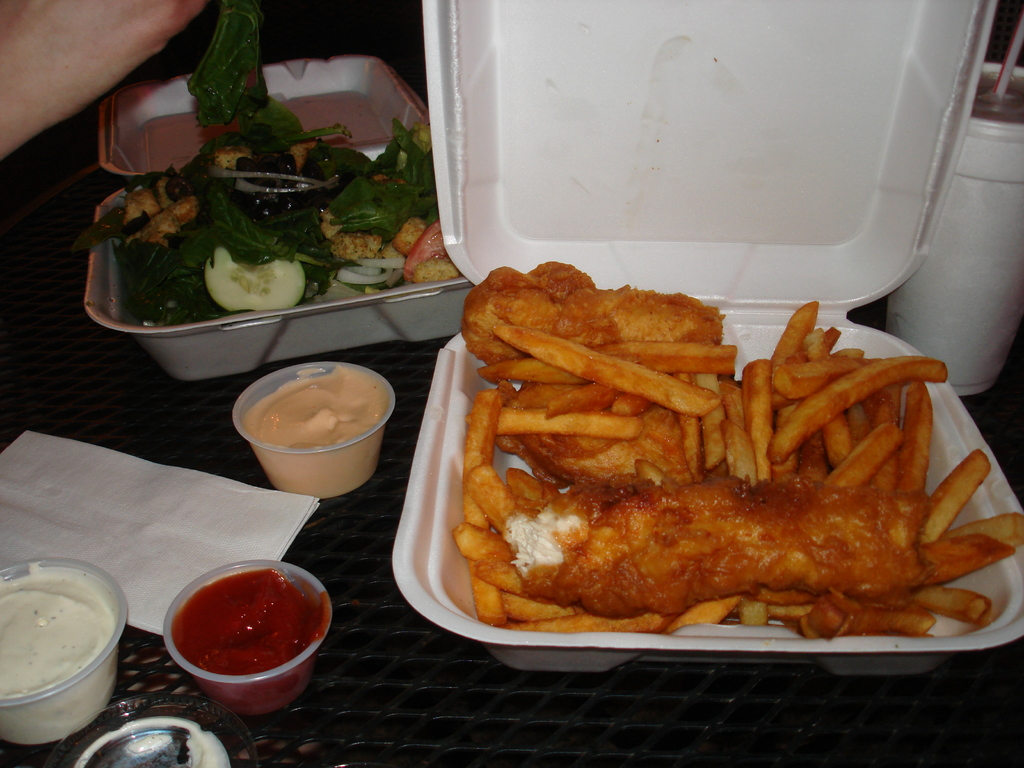French fries: (464, 277, 951, 619)
